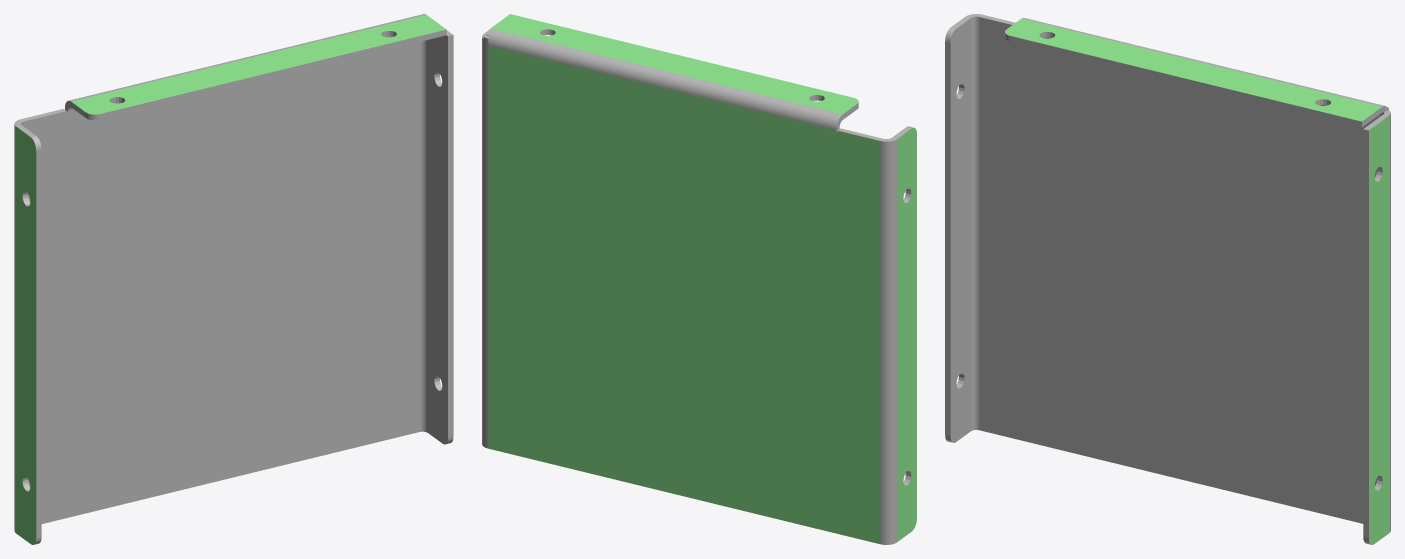
File: textExportXml.glb
The picture shows the model from 3 angles, left to right: view 1: azimuth 30°, elevation 25°; view 2: azimuth 150°, elevation 25°; view 3: azimuth 330°, elevation 25°; orthographic projection. The views are drawn at different scales.
Visible parts, largest first — view 1: Asset3DLoader.sceneRoot; view 2: Asset3DLoader.sceneRoot; view 3: Asset3DLoader.sceneRoot.
Part boxes in pixels (<box>): Asset3DLoader.sceneRoot: <box>14,14,453,544</box>; Asset3DLoader.sceneRoot: <box>482,14,916,544</box>; Asset3DLoader.sceneRoot: <box>945,14,1390,544</box>.
Size of the model in its own units: 146 by 139 by 15.87.
